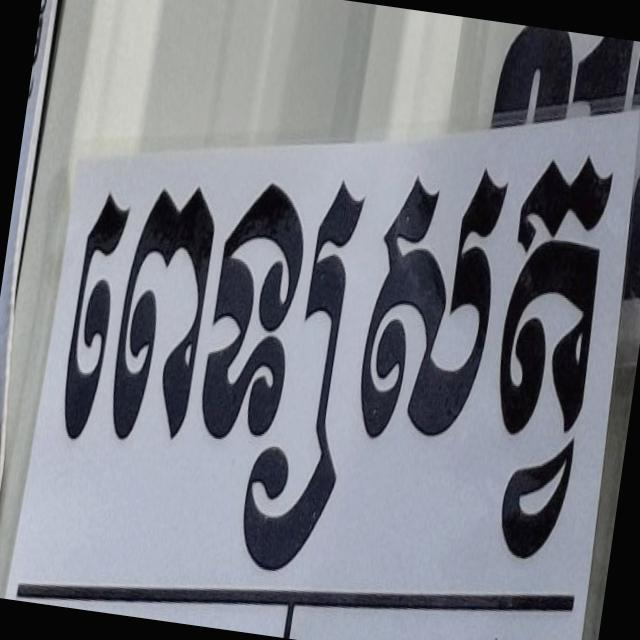Yolov11_80vkh: (12, 111, 640, 612)
